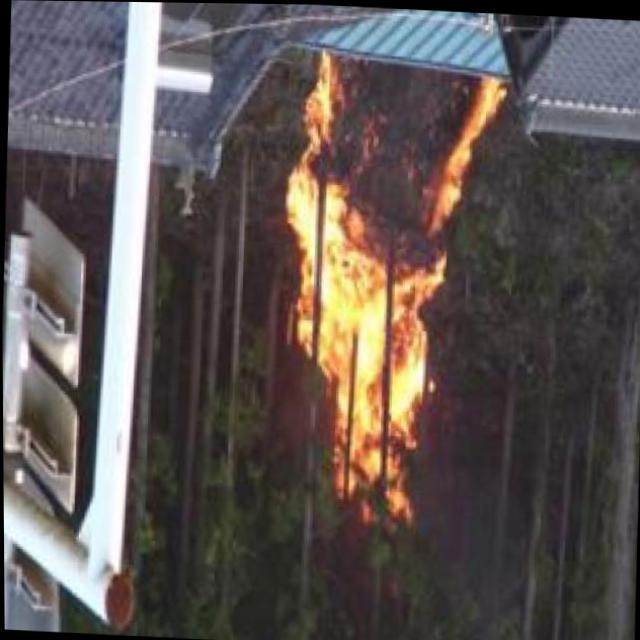Fire: (279, 51, 502, 530)
